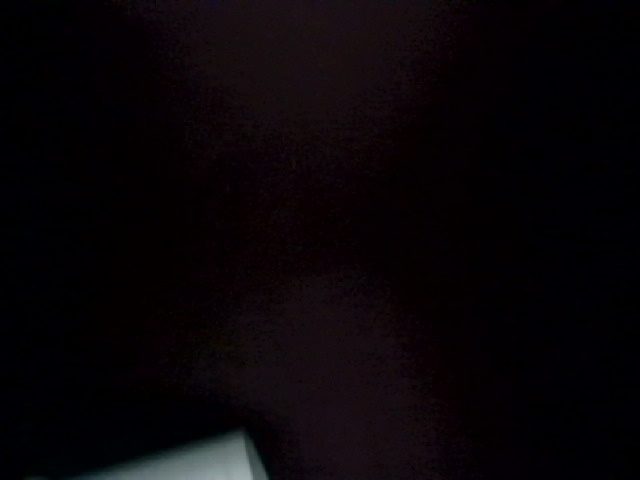KHSLJ: (162, 43, 640, 392)
